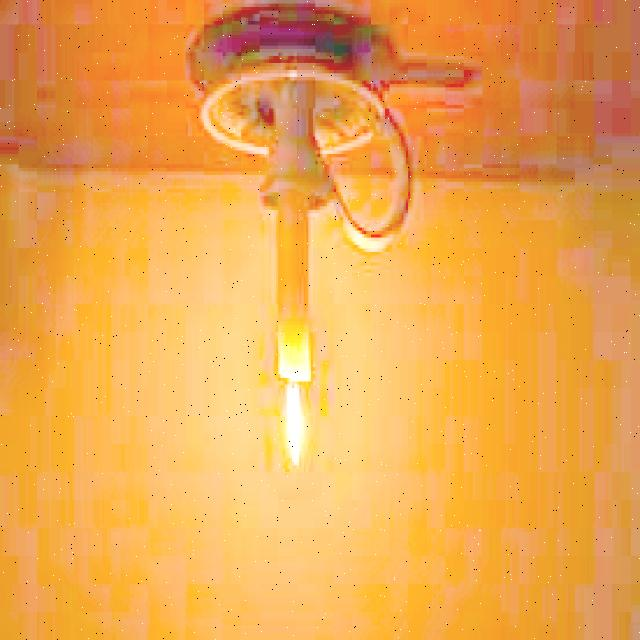api: (272, 379, 314, 477)
